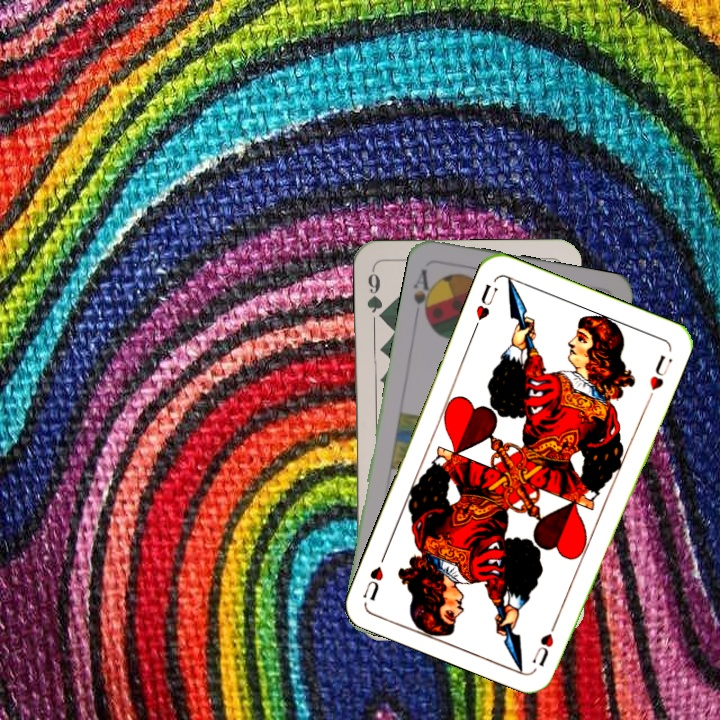G9: (362, 265, 388, 324)
HU: (528, 614, 561, 670), (469, 280, 500, 333)
SA: (409, 265, 438, 323)
